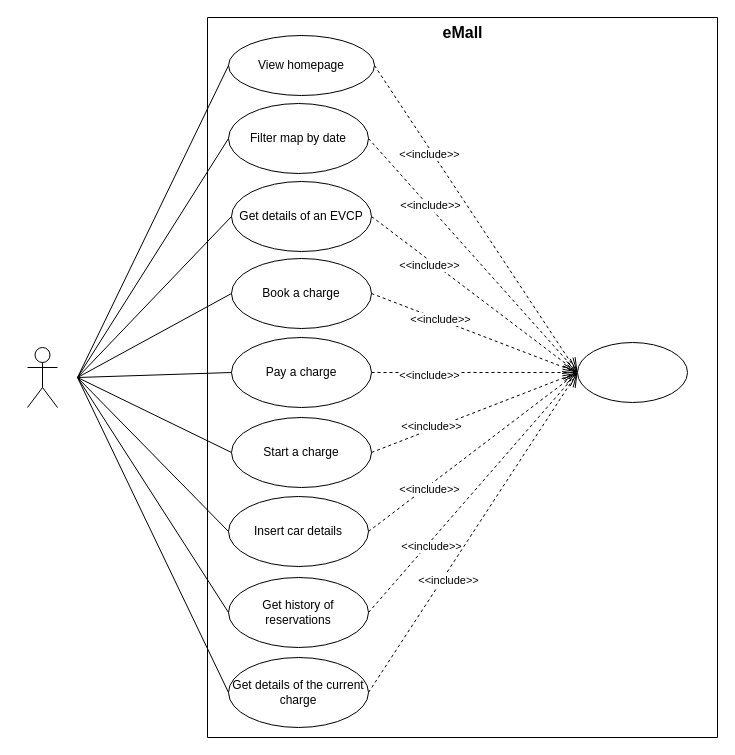
Image size: 735x755. Some labels were removed from this diagram. Here are the shapes that lost their labels. From the top down, the centre of each, then its label:
At point (42, 377): "EV Driver".
At point (632, 372): "Login".
